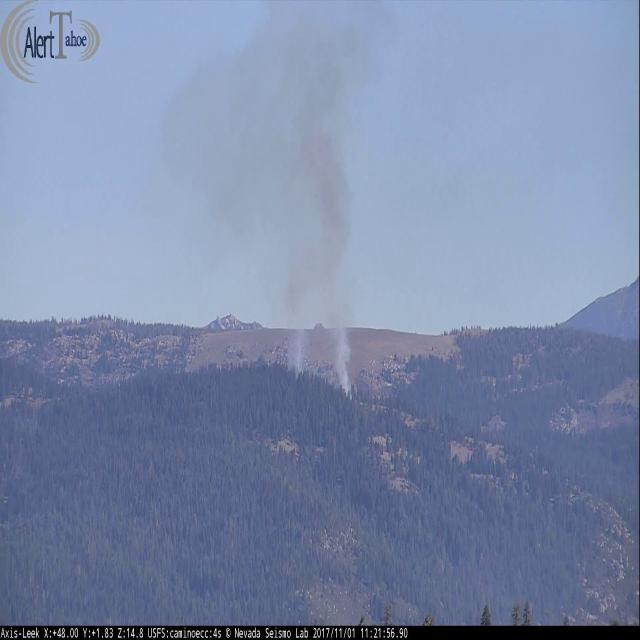smoke: (154, 7, 373, 404)
